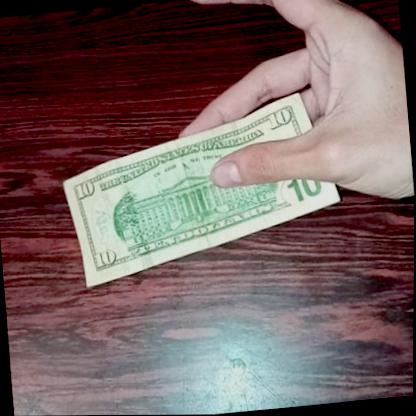ten-back: (53, 88, 345, 287)
